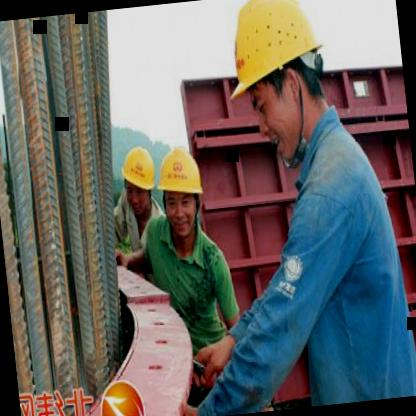helmet: (211, 0, 346, 170), (151, 133, 208, 241), (114, 139, 162, 220), (92, 371, 153, 416)
